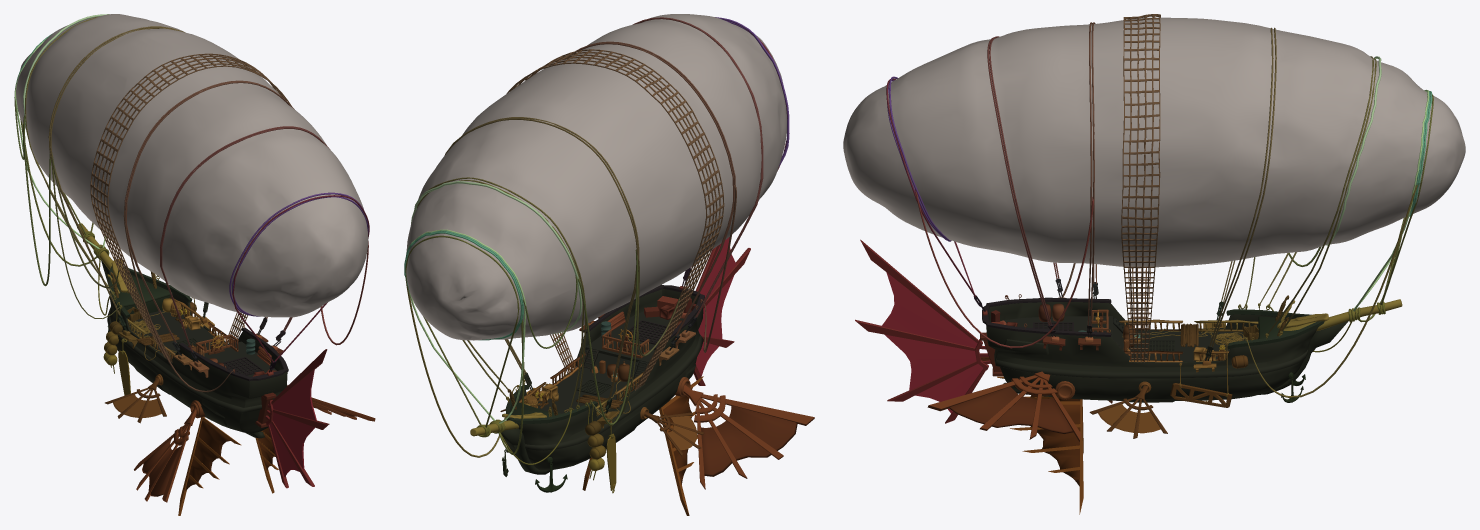
Rendered from airship.glb.
3 renders of one model, left to right at view 1: azimuth 30°, elevation 25°; view 2: azimuth 150°, elevation 25°; view 3: azimuth 270°, elevation 25°, orthographic. The views are drawn at different scales.
Visible parts, largest first — view 1: BODY; view 2: BODY; view 3: BODY.
Part boxes in pixels (<box>): BODY: <box>14,14,375,515</box>; BODY: <box>404,14,814,515</box>; BODY: <box>843,14,1465,514</box>.
Bounding box in the file's own units: 0.429 × 0.822 × 1.
